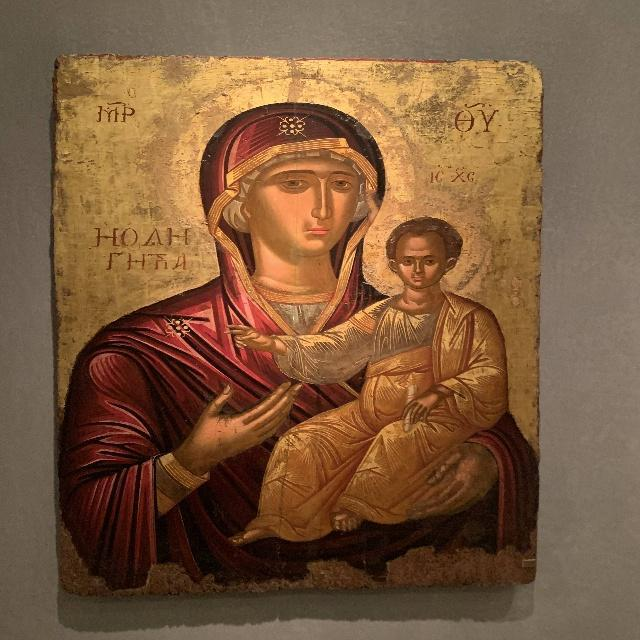aura: (170, 73, 414, 255), (364, 201, 481, 292)
christ_kid: (227, 206, 509, 546)
hand: (216, 318, 274, 361)
mary: (63, 73, 531, 578)
